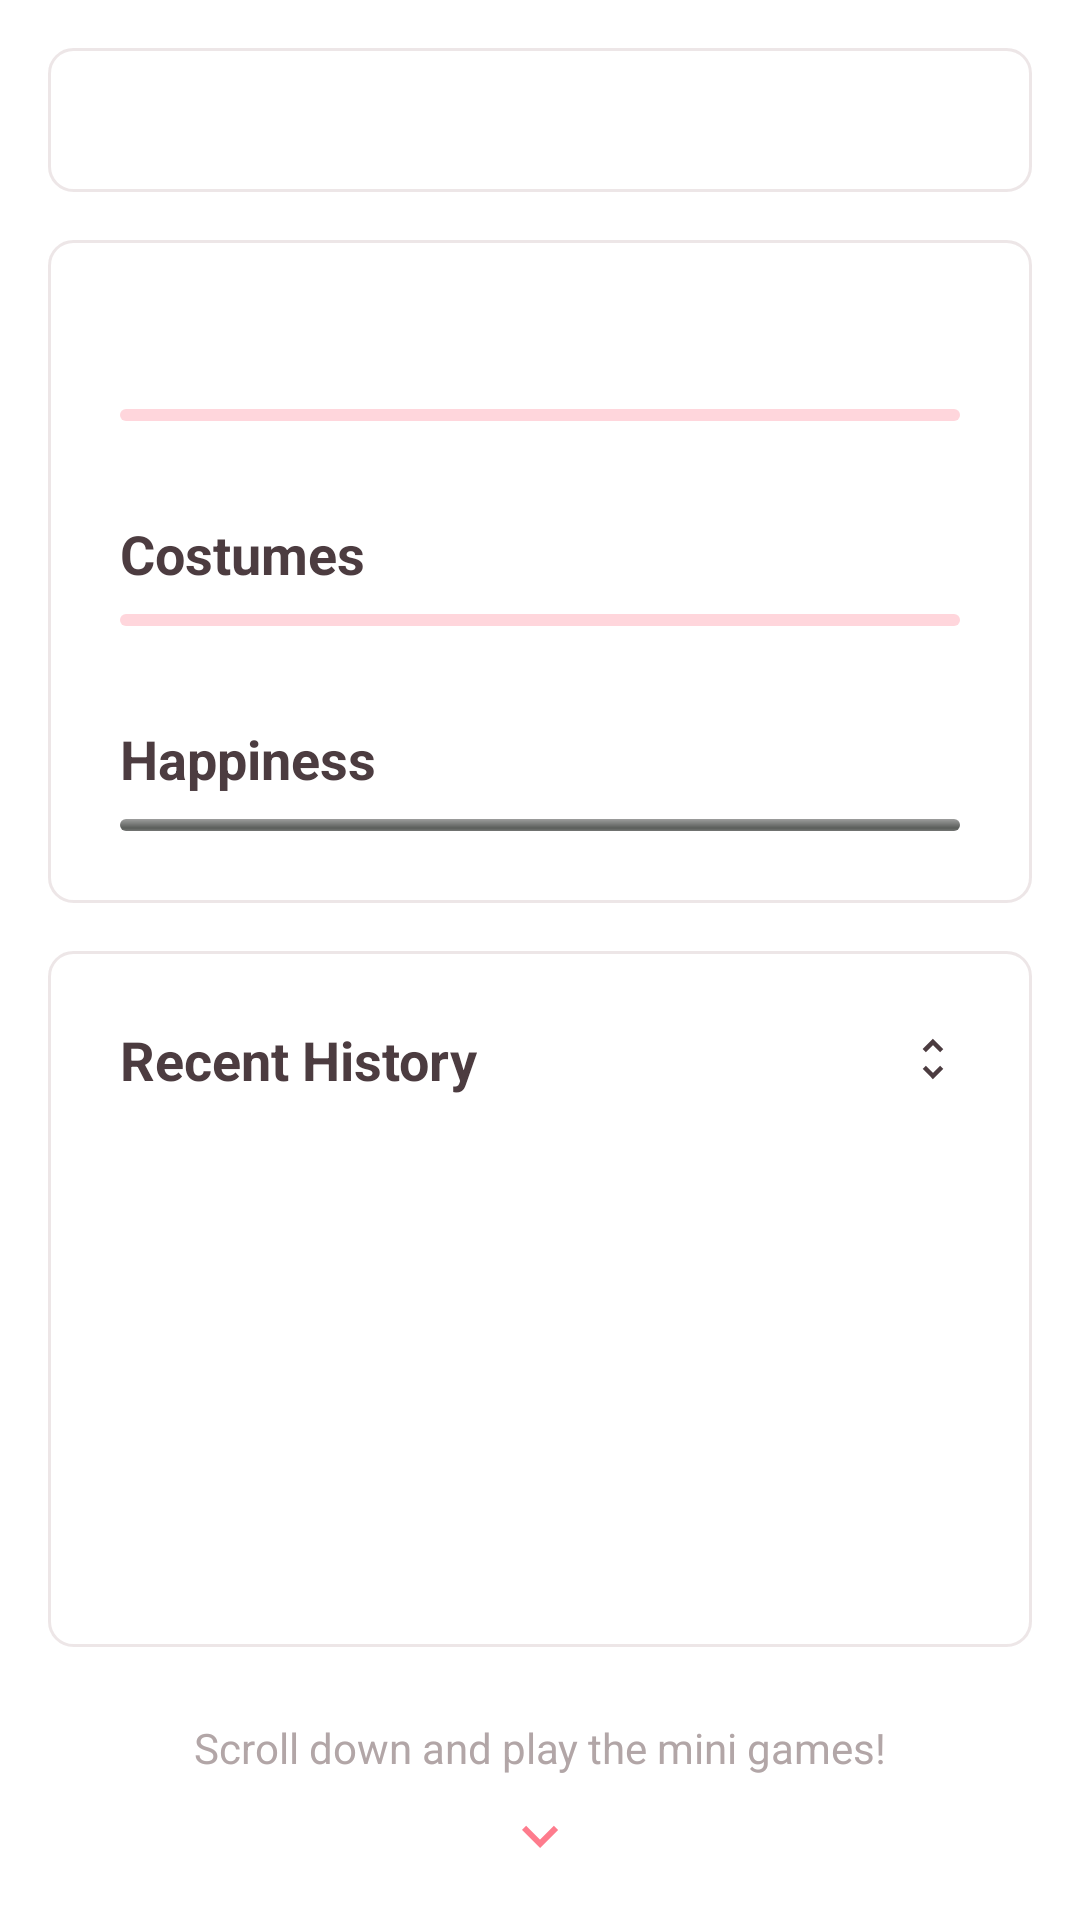

Point at icon controls on the screen. Image size 1080×1920, points as point (x, y).
arrow down: point (540, 1837)
unfold: point (933, 1059)
